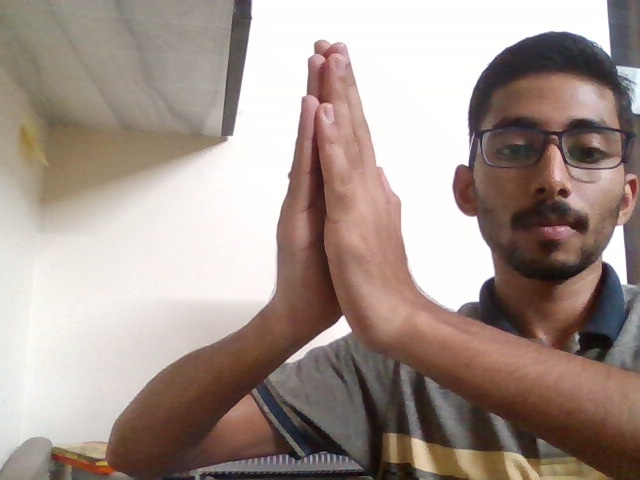Thank You: (248, 24, 443, 379)
